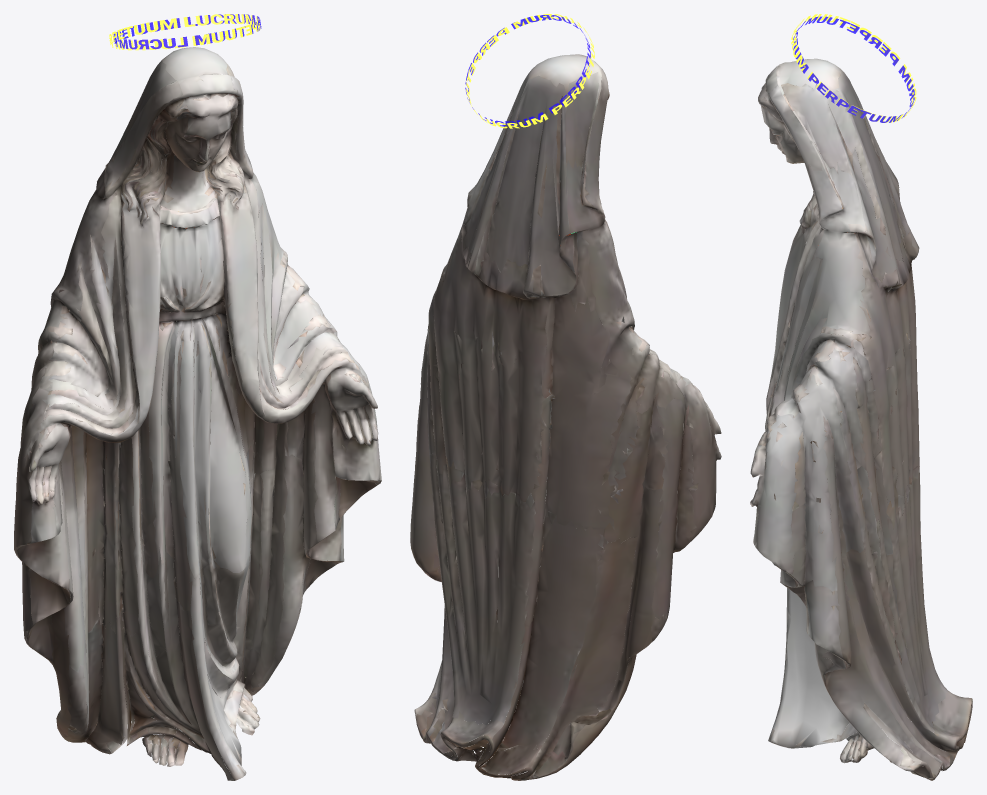
The model's file is CyberpunkMaryHeartRed.glb.
The picture shows the model from 3 angles, left to right: view 1: azimuth 30°, elevation 25°; view 2: azimuth 150°, elevation 25°; view 3: azimuth 270°, elevation 25°; orthographic projection. The views are drawn at different scales.
Visible parts, largest first — view 1: statue, HaloText1, HaloText2; view 2: statue, HaloText1, HaloText2; view 3: statue, HaloText2, HaloText1.
Part boxes in pixels (bbox=[...]): statue: bbox=[14, 47, 381, 780]; HaloText1: bbox=[109, 14, 260, 50]; HaloText2: bbox=[113, 14, 261, 49]; statue: bbox=[410, 54, 721, 780]; HaloText1: bbox=[466, 14, 594, 128]; HaloText2: bbox=[465, 15, 590, 126]; statue: bbox=[750, 58, 972, 780]; HaloText2: bbox=[792, 16, 914, 122]; HaloText1: bbox=[791, 14, 916, 122].
Size of the model in its own units: 0.419 by 0.9207 by 0.2567.
Materials: 8 (2 with a texture image).
